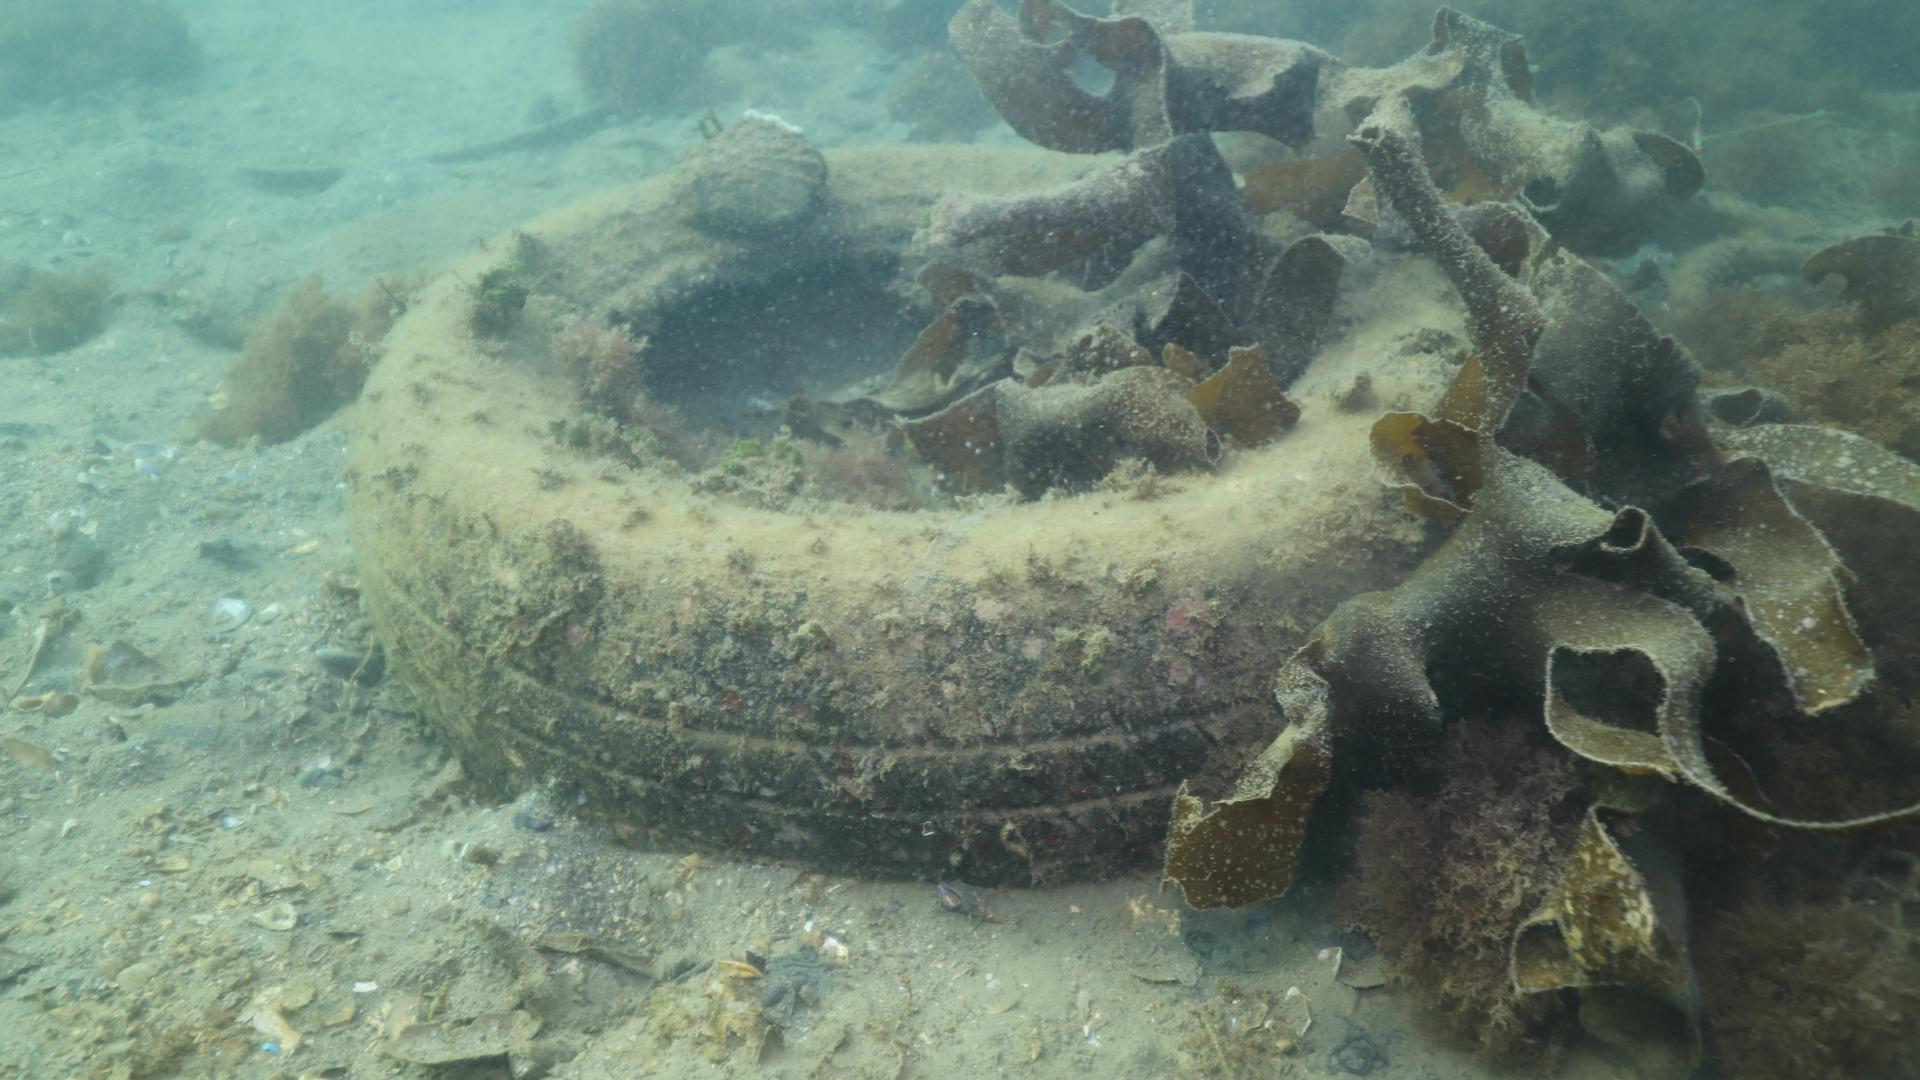tire: (344, 138, 1481, 885)
